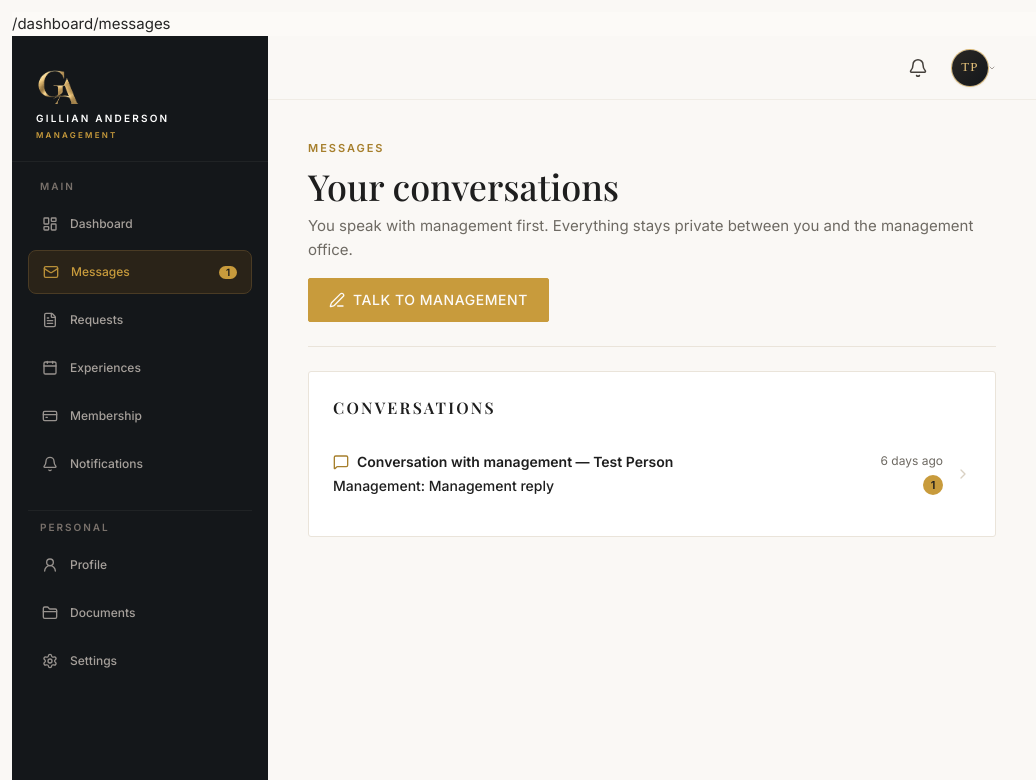
Test case: messaging › lists conversations with unread state and opens a thread
Expected: the text "Conversation with management — Test Person" is shown, left=357, top=453, right=673, bottom=470
Expected: the text "Management: Management reply" is shown, left=333, top=477, right=554, bottom=494
Click the link "Conversation with management" at (515, 461), box left=333, top=453, right=971, bottom=495
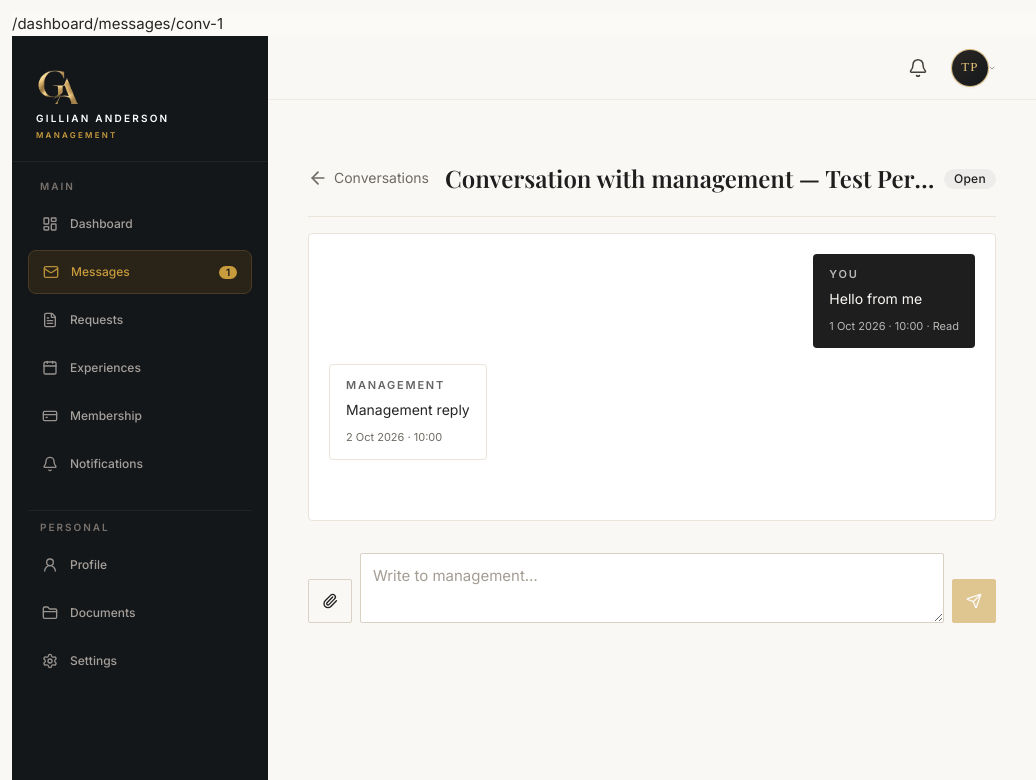
Expected: the text "Management reply" is shown, left=346, top=398, right=470, bottom=421
Expected: the text with test id "location" reads "/dashboard/messages/conv-1", left=12, top=14, right=223, bottom=33
Expected: the text "Hello from me" is shown, left=829, top=290, right=922, bottom=307
